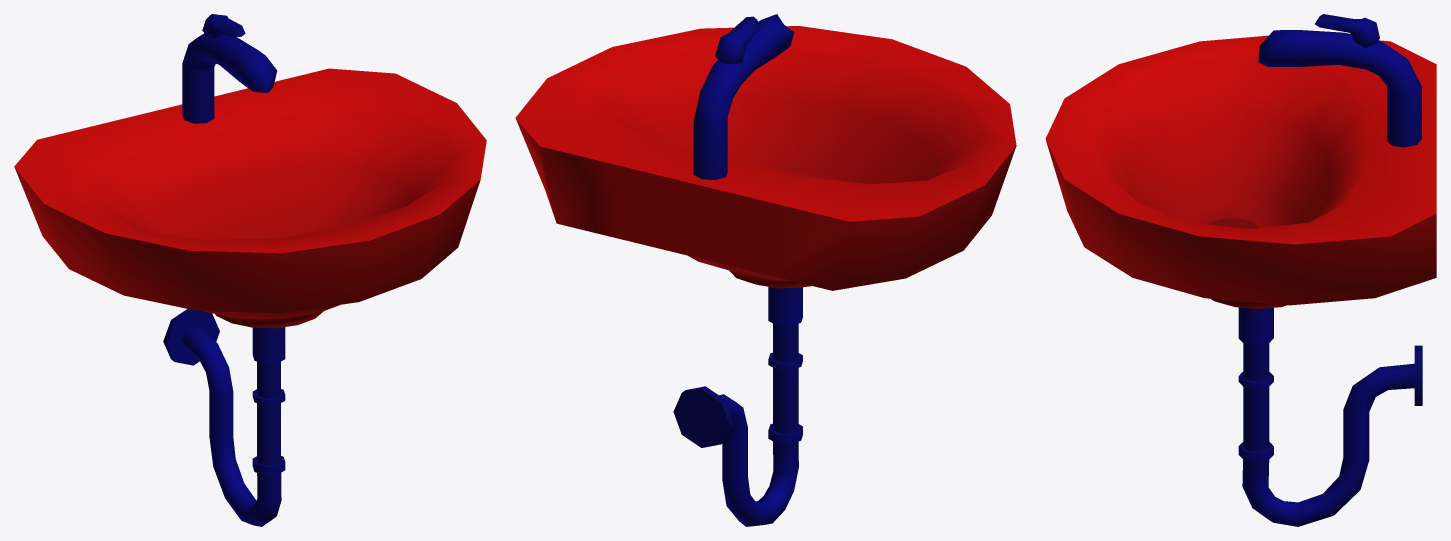
The model's file is Sink.glb.
3 renders of one model, left to right at view 1: azimuth 30°, elevation 25°; view 2: azimuth 150°, elevation 25°; view 3: azimuth 270°, elevation 25°, orthographic. The views are drawn at different scales.
Visible parts, largest first — view 1: Sink; view 2: Sink; view 3: Sink.
Part boxes in pixels (bbox=[...]): Sink: bbox=[14, 14, 486, 526]; Sink: bbox=[515, 14, 1016, 526]; Sink: bbox=[1045, 14, 1436, 526].
Bounding box in the file's own units: 3.76 × 4.23 × 2.94.
